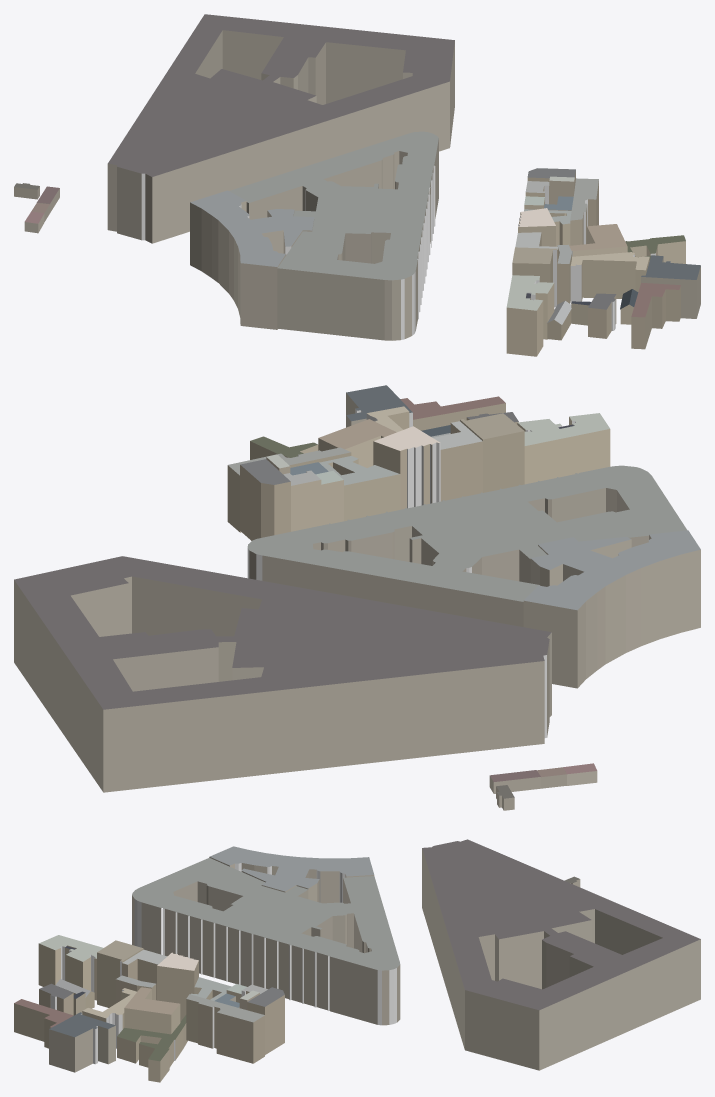
3 renders of one model, top to bottom at view 1: azimuth 30°, elevation 25°; view 2: azimuth 150°, elevation 25°; view 3: azimuth 270°, elevation 25°, orthographic. The views are drawn at different scales.
Visible parts, largest first — view 1: tuile; view 2: tuile; view 3: tuile.
Boxes of the visible parts, box(x1,y1,x2,y2) form: tuile: box(14, 14, 700, 356); tuile: box(14, 385, 700, 810); tuile: box(14, 839, 700, 1082).
Bounding box in the file's own units: 235 × 35.39 × 329.
